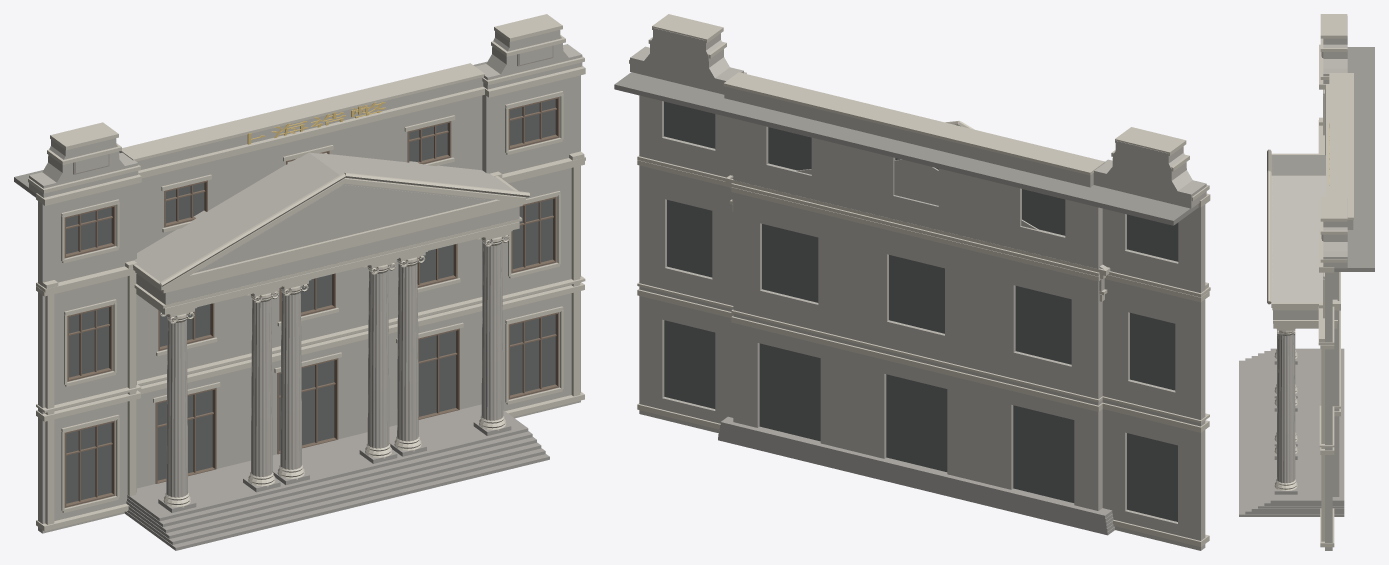
File: putuo-central-mint-main-portico-lod.glb
3 renders of one model, left to right at view 1: azimuth 30°, elevation 25°; view 2: azimuth 150°, elevation 25°; view 3: azimuth 270°, elevation 25°, orthographic. The views are drawn at different scales.
Visible parts, largest first — view 1: 中央造币厂主楼三角山花与六柱门廊; view 2: 中央造币厂主楼三角山花与六柱门廊; view 3: 中央造币厂主楼三角山花与六柱门廊.
Boxes of the visible parts, <box> form: 中央造币厂主楼三角山花与六柱门廊: <box>14,14,585,550</box>; 中央造币厂主楼三角山花与六柱门廊: <box>614,14,1210,550</box>; 中央造币厂主楼三角山花与六柱门廊: <box>1239,14,1374,550</box>.
Bounding box in the file's own units: 25.4 × 17.21 × 6.55.
